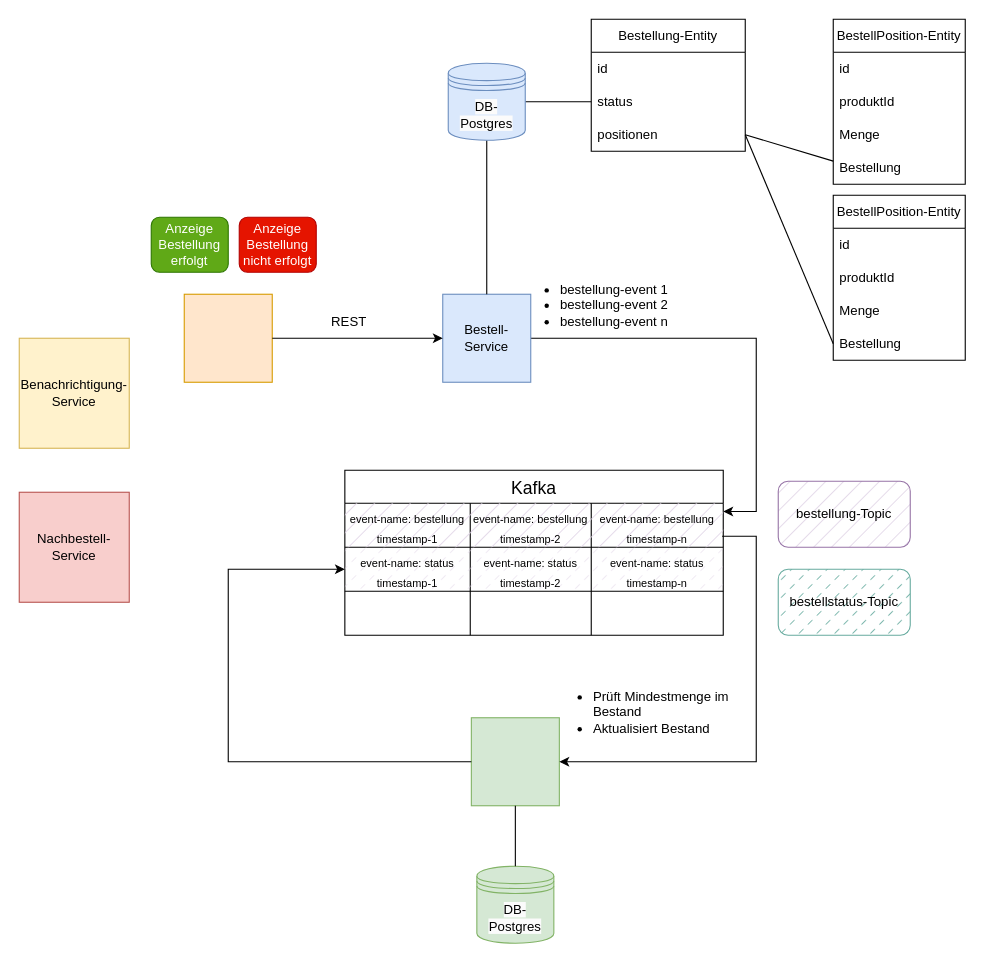
This 985x963 diagram has some shape labels left out. Each missing label, with the centre of its shape:
Bestand-Service: the point at 514,761
Kunde Interface zum Bestellen: the point at 227,337
